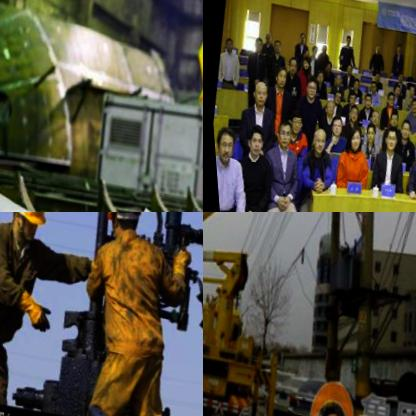head: (210, 123, 235, 165), (239, 124, 263, 157), (246, 78, 268, 106), (306, 124, 326, 154), (269, 118, 289, 146), (342, 123, 360, 152), (300, 73, 316, 101), (380, 125, 396, 151), (325, 112, 341, 136), (284, 110, 301, 132), (394, 116, 409, 139), (270, 64, 285, 86), (360, 120, 374, 143), (319, 96, 333, 116), (283, 55, 296, 75), (365, 107, 378, 126), (345, 103, 357, 122), (250, 36, 262, 52), (328, 89, 340, 105), (385, 112, 397, 127), (221, 35, 232, 51), (260, 28, 271, 44), (359, 92, 370, 108), (269, 36, 279, 52), (343, 90, 354, 104), (298, 54, 308, 69), (312, 68, 322, 83), (389, 82, 399, 97), (382, 91, 392, 106), (406, 97, 416, 112), (330, 72, 340, 86), (348, 76, 358, 90), (404, 82, 414, 96), (294, 29, 304, 42), (308, 43, 317, 55), (341, 62, 350, 74), (366, 80, 375, 92), (393, 69, 402, 81), (300, 46, 308, 58), (370, 70, 378, 82), (322, 61, 330, 71), (342, 34, 350, 44), (392, 42, 400, 52), (319, 42, 325, 53), (372, 43, 378, 54)
helmet: (172, 0, 203, 141), (0, 212, 52, 252), (96, 212, 148, 246)
